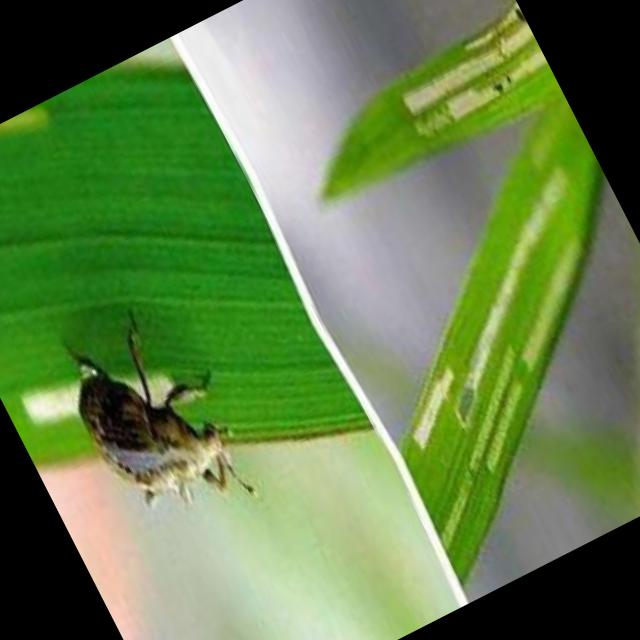rice-bug: (52, 318, 244, 532)
